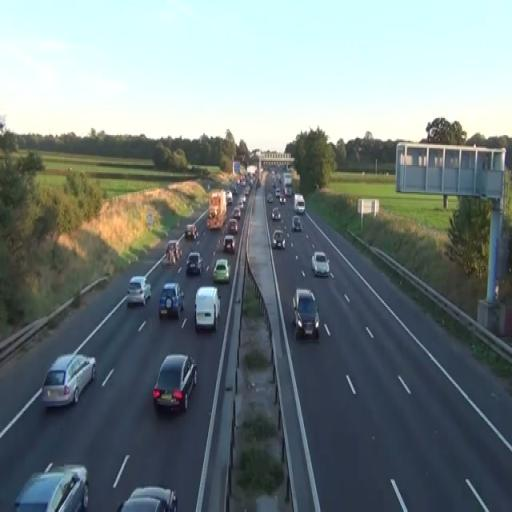Car: (12, 462, 90, 512), (42, 351, 96, 408), (153, 354, 198, 414), (117, 486, 179, 512), (292, 288, 320, 341), (194, 287, 221, 332), (159, 282, 184, 320), (127, 275, 152, 307), (212, 258, 231, 284), (311, 251, 330, 277), (186, 252, 203, 276), (272, 229, 286, 250), (223, 235, 236, 254)
